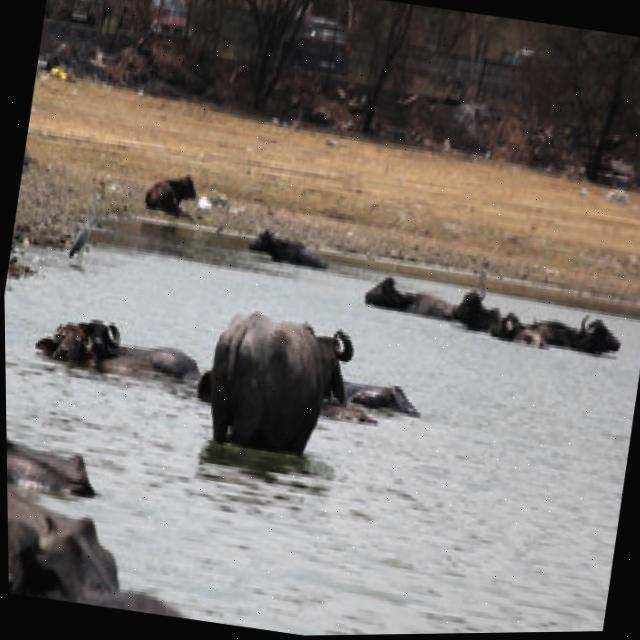Buffalo: (7, 489, 229, 626), (199, 297, 363, 460)
